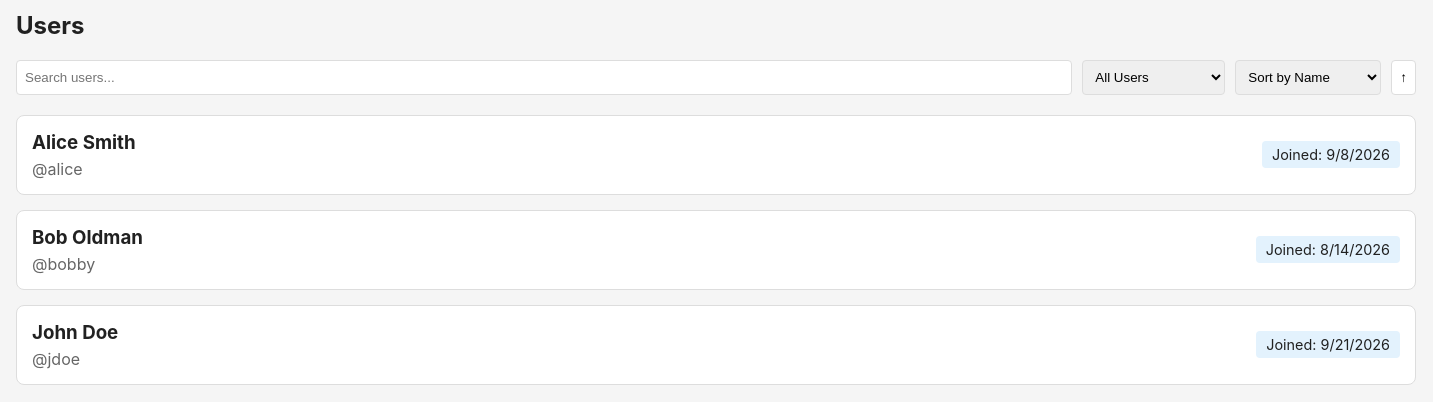
Test: UserList Component › filters users by join date
expect the heading "John Doe" is shown: met, box [32, 321, 118, 344]
Select "Joined this week" in the 1st dropdown at (1154, 77), box [1082, 60, 1225, 95]
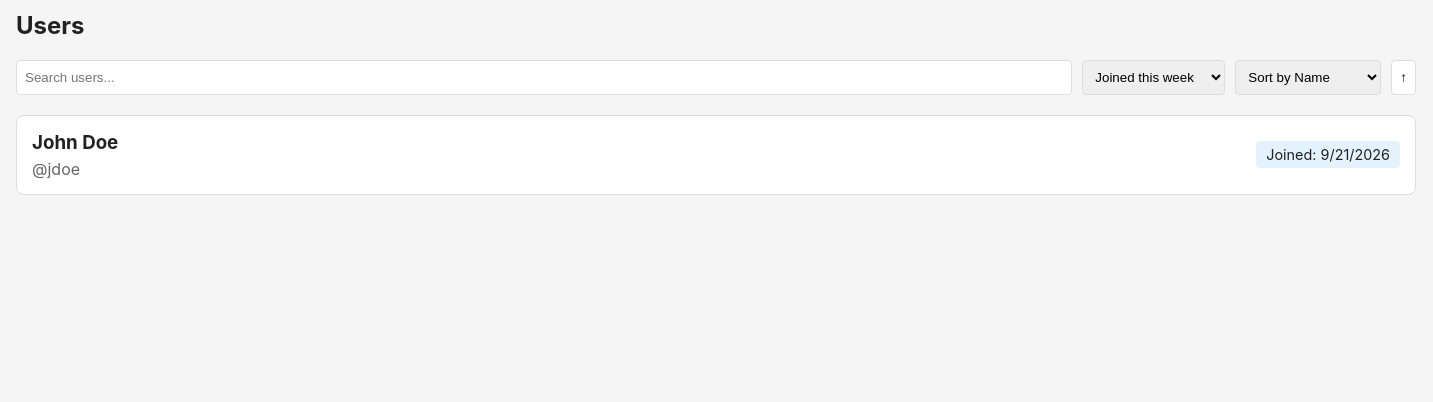
expect the heading "John Doe" is shown: met, box [32, 131, 118, 154]
expect the heading "Alice Smith" is gone: met
